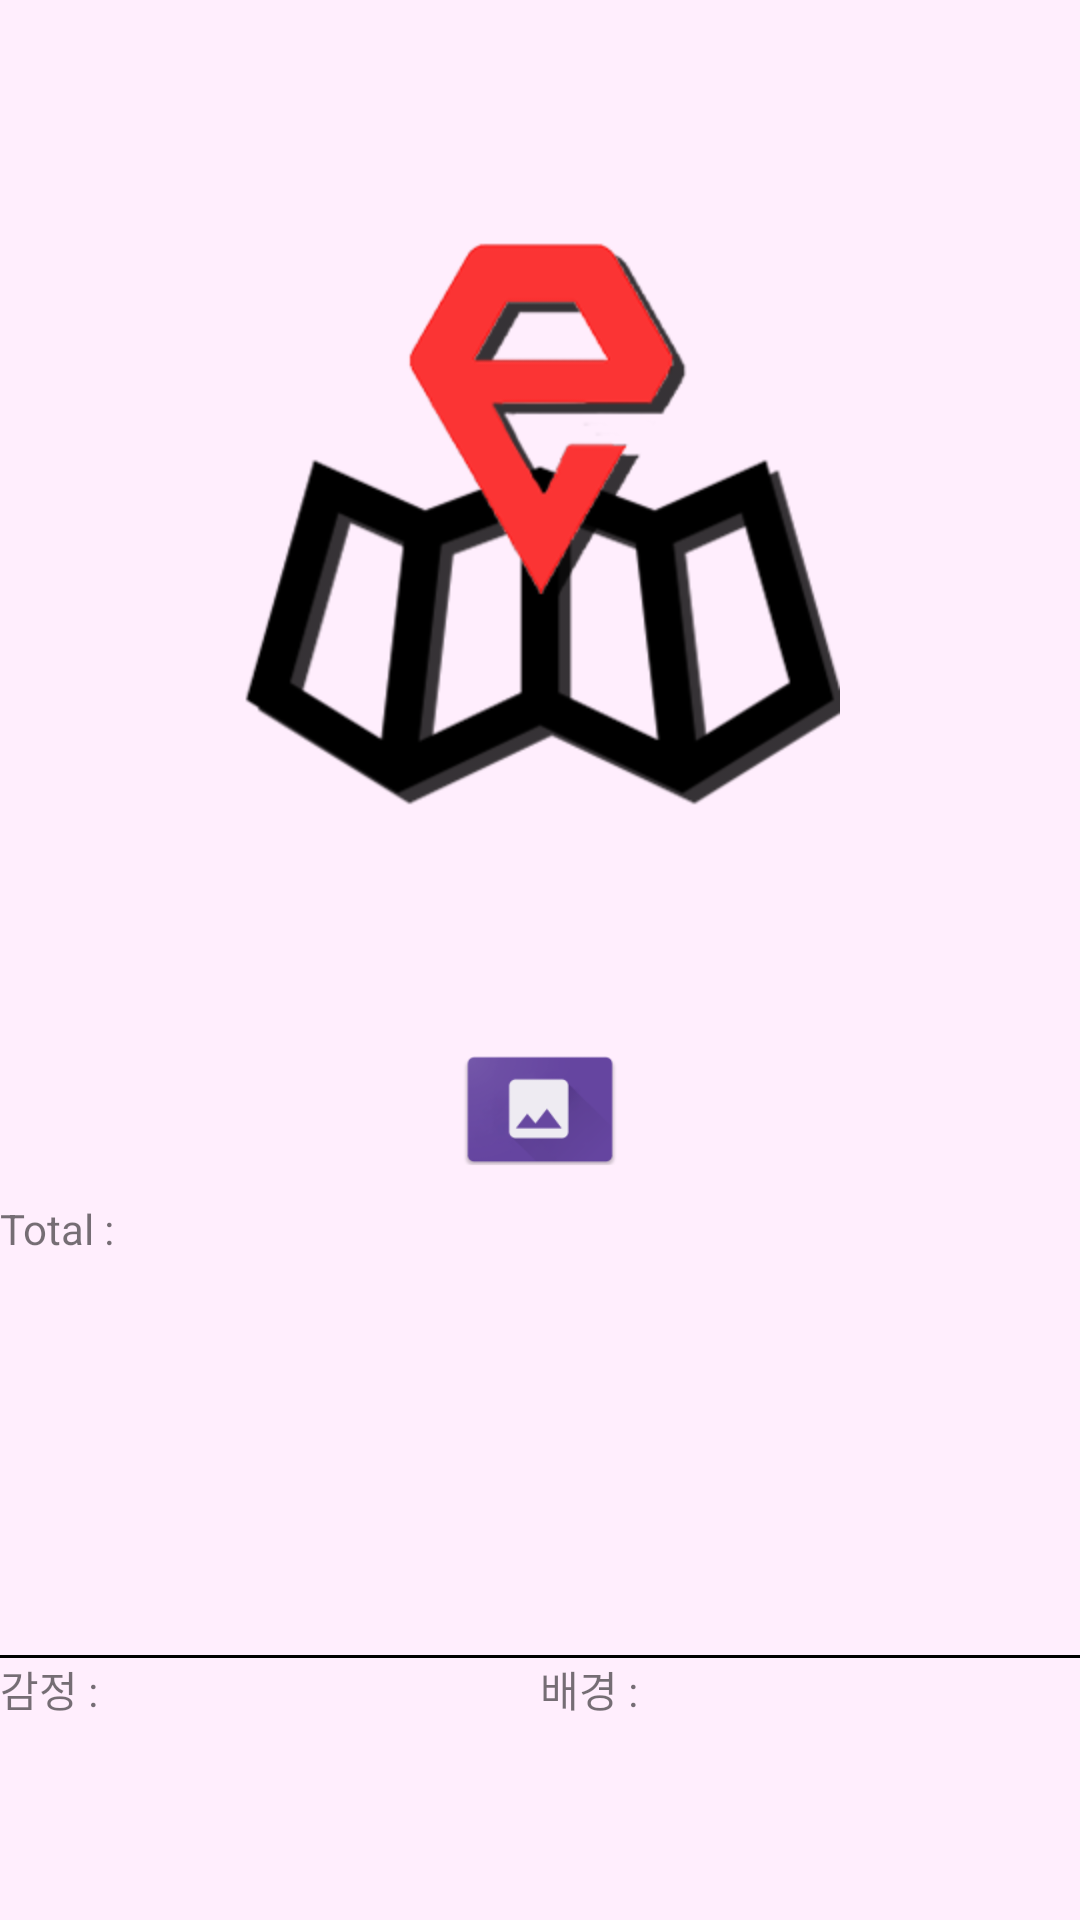

Locate icon controls on the screen. Image size 1080 x 1920, boxes as (x1, y1, x2, y2).
galary: (466, 1056, 614, 1165)
